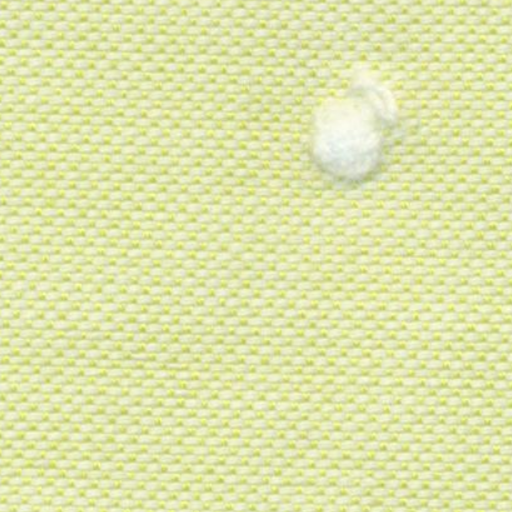MianQiu: (292, 55, 425, 183)
